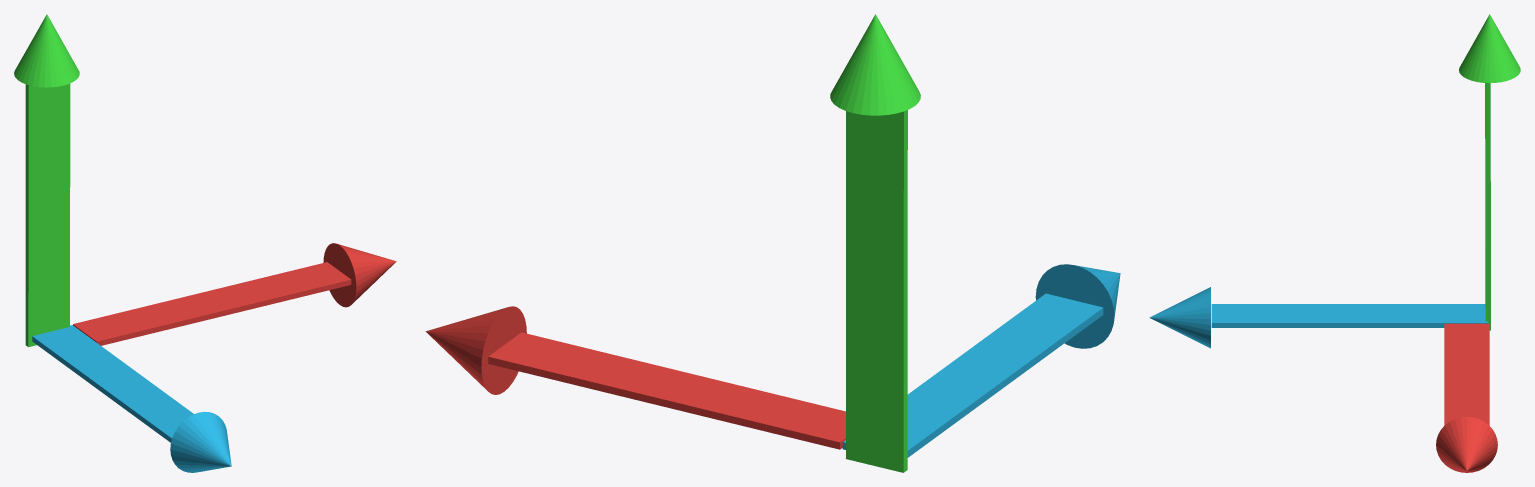
Rendered from translate1.fbx.
The picture shows the model from 3 angles, left to right: view 1: azimuth 30°, elevation 25°; view 2: azimuth 150°, elevation 25°; view 3: azimuth 270°, elevation 25°; orthographic projection. The views are drawn at different scales.
Parts seen in each view (by area): view 1: MoveY, MoveX, MoveZ; view 2: MoveY, MoveX, MoveZ; view 3: MoveZ, MoveX, MoveY.
Boxes of the visible parts, x1,y1,x2,y2 form: MoveY: (14, 14, 79, 347); MoveX: (73, 243, 396, 345); MoveZ: (32, 325, 231, 472); MoveY: (830, 14, 920, 472); MoveX: (425, 306, 845, 449); MoveZ: (842, 264, 1120, 457); MoveZ: (1149, 287, 1488, 348); MoveX: (1436, 323, 1497, 472); MoveY: (1459, 14, 1520, 330).
Size of the model in its own units: 183 by 167 by 171.
